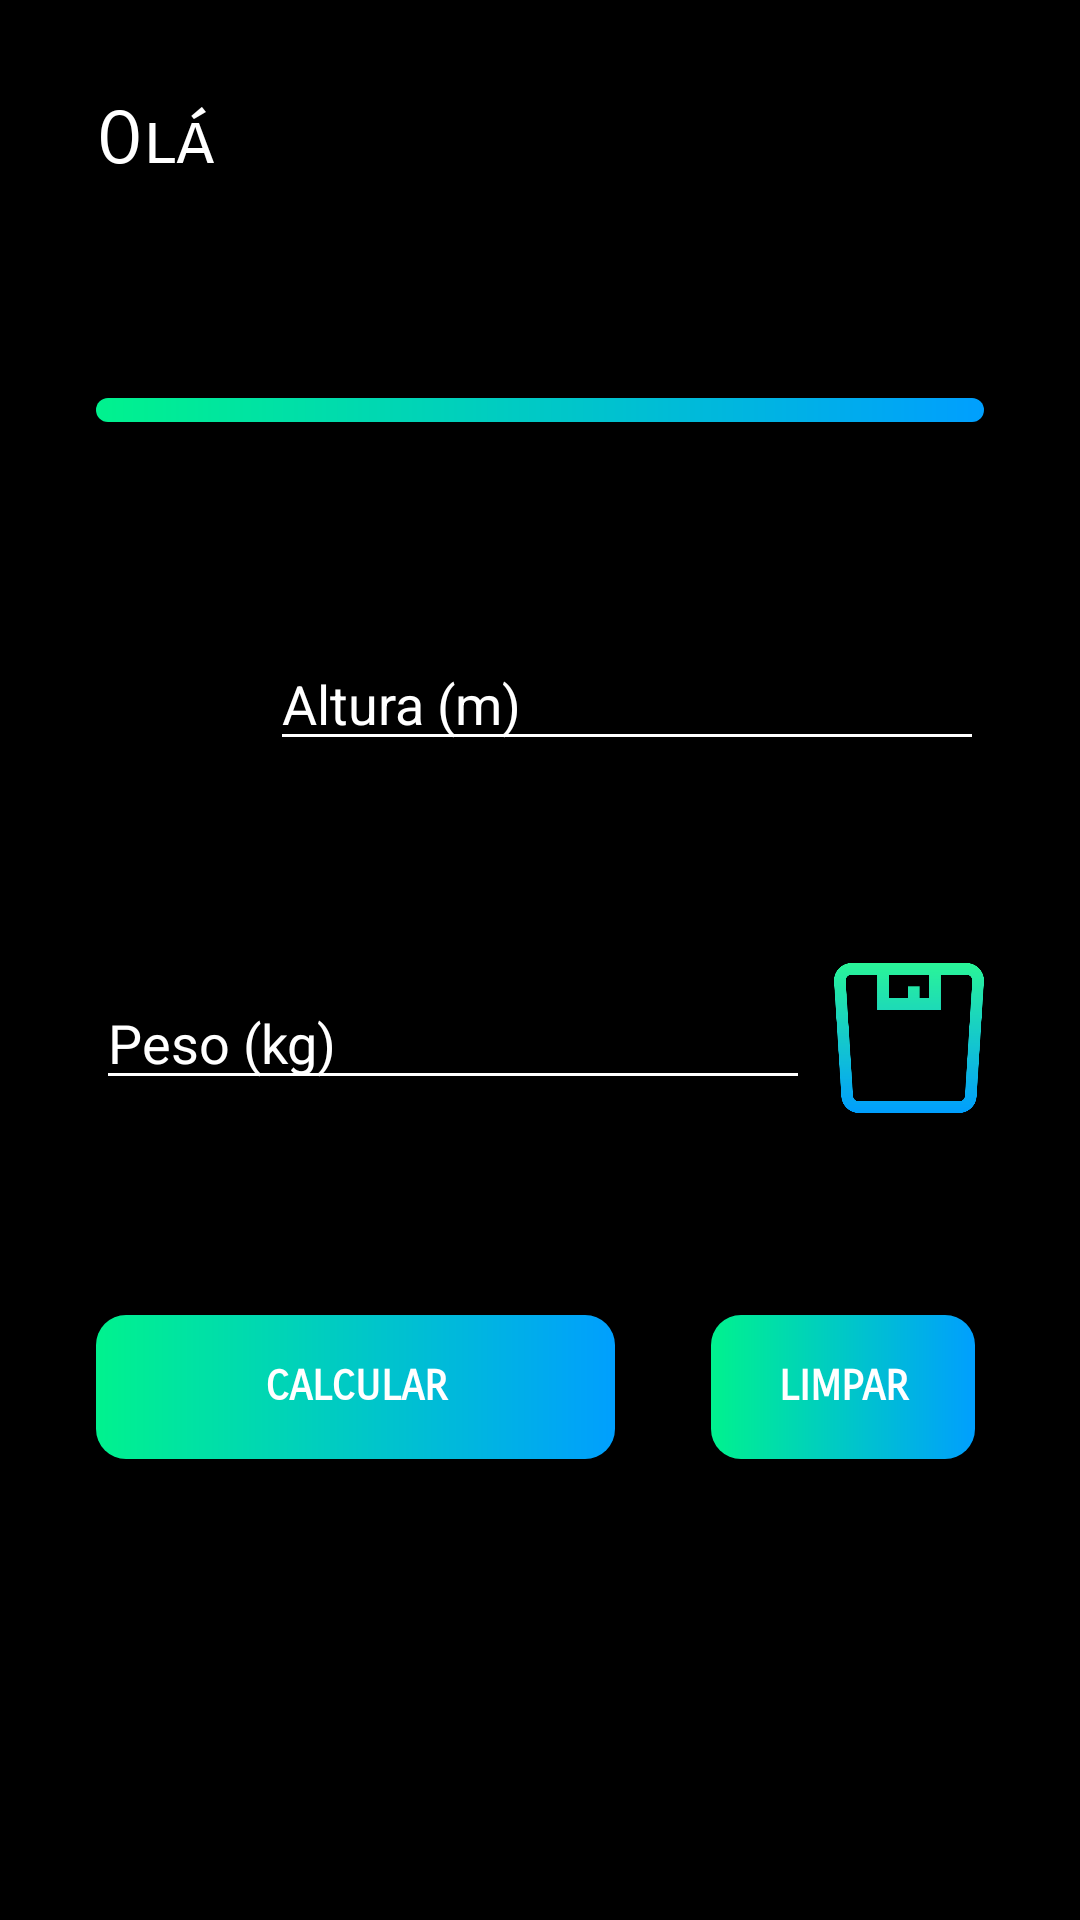

Icons on this 1080×1920 Android screen, each with its box as (x1, y1, x2, y2):
weight square: (834, 963, 984, 1113)
